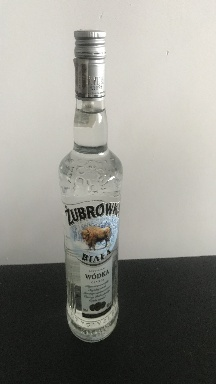butelka: (56, 26, 124, 345)
